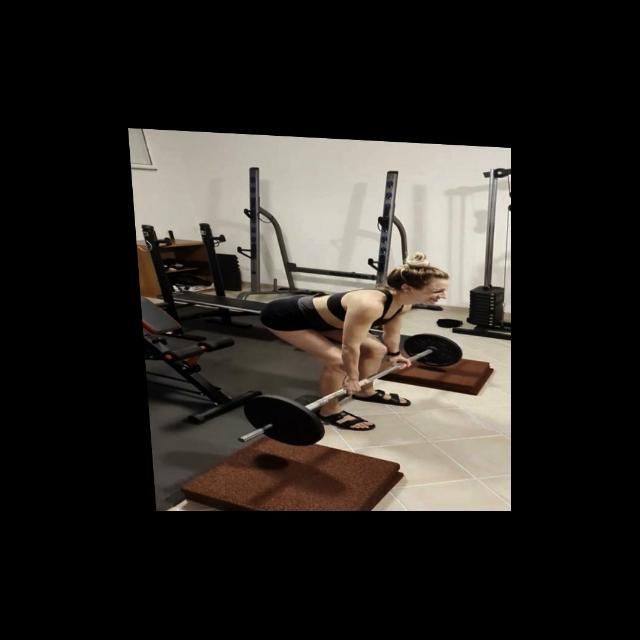barbell: (226, 389, 323, 448)
